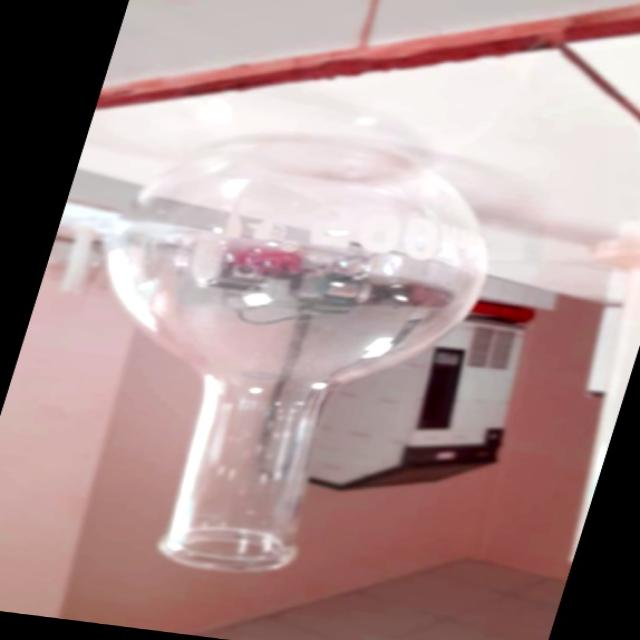Round Bottom Flask: (15, 111, 568, 601)
